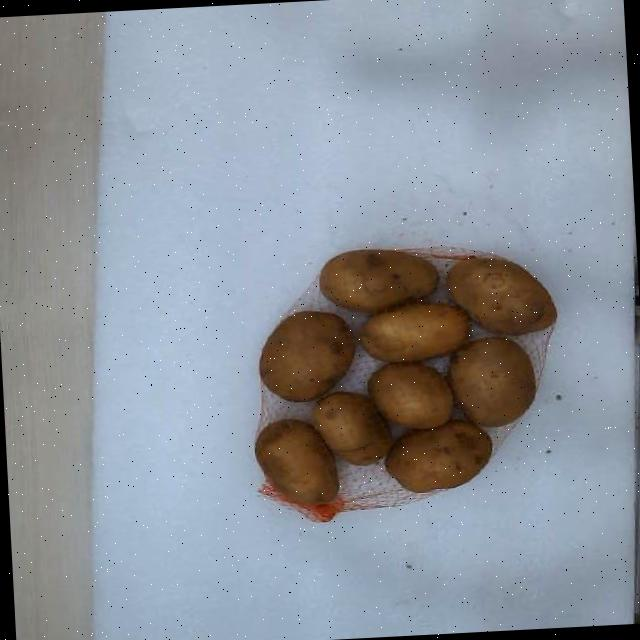potato: (259, 310, 354, 400), (446, 257, 556, 334), (448, 337, 534, 425), (386, 420, 491, 492), (319, 249, 437, 311), (255, 418, 337, 503), (359, 302, 469, 361), (367, 362, 453, 428), (316, 390, 390, 464)
